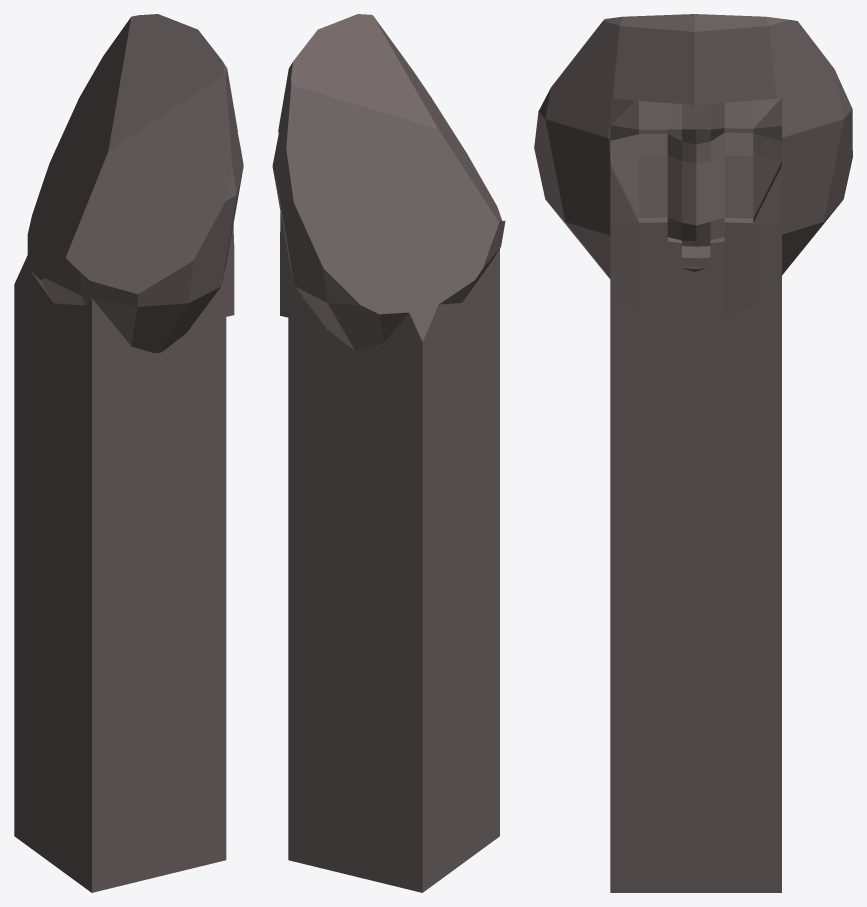
The model's file is idol_exploded_3.fbx.
The picture shows the model from 3 angles, left to right: view 1: azimuth 30°, elevation 25°; view 2: azimuth 150°, elevation 25°; view 3: azimuth 270°, elevation 25°; orthographic projection. The views are drawn at different scales.
Parts seen in each view (by area): view 1: Cube.003; view 2: Cube.003; view 3: Cube.003.
Boxes of the visible parts, box(x1,y1,x2,y2) form: Cube.003: box(14, 14, 243, 892); Cube.003: box(272, 14, 505, 892); Cube.003: box(534, 14, 852, 892).
Bounding box in the file's own units: 259 × 1138 × 372.
Materials: 1 (1 with a texture image).
